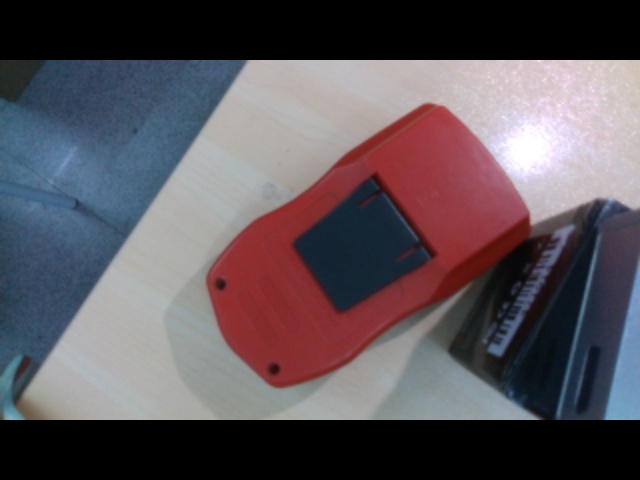Multimeter: (205, 102, 534, 389)
Screw holes: (214, 277, 228, 292), (267, 362, 281, 376)
